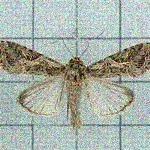Spodoptera litura: (0, 29, 149, 128)
